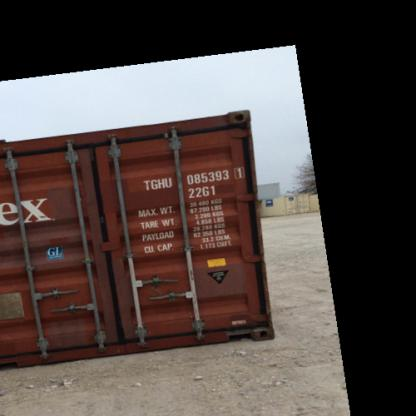Damage: (41, 315, 92, 350), (264, 288, 276, 322)
